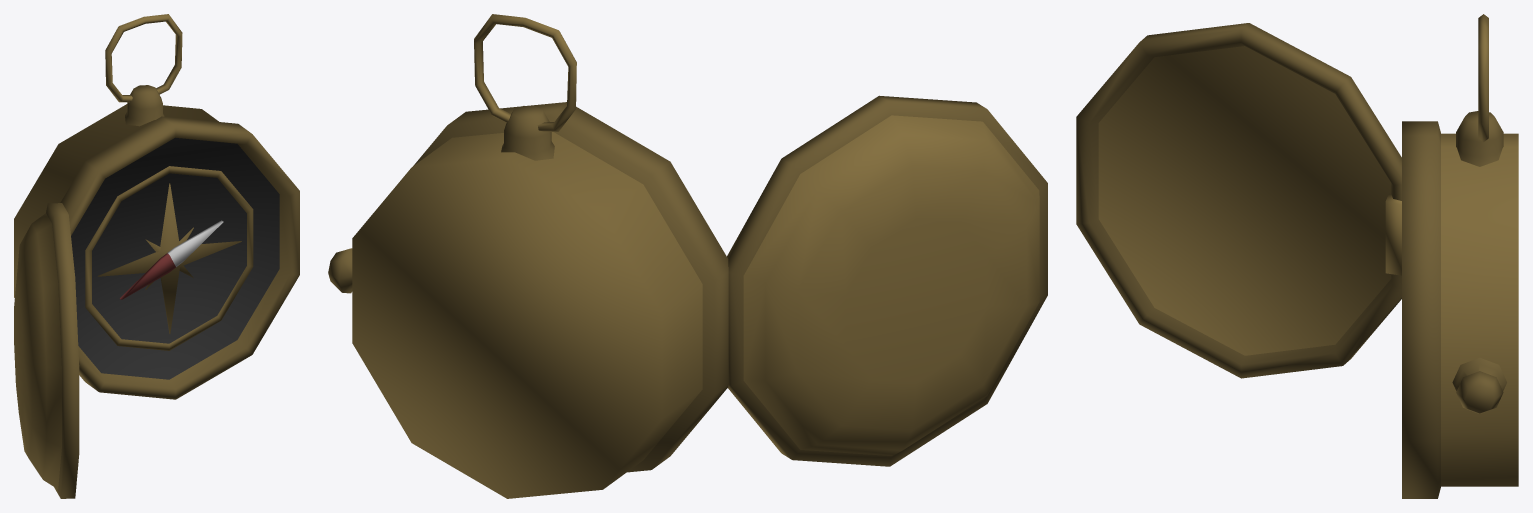
File: Compass_Opened.fbx
The picture shows the model from 3 angles, left to right: view 1: azimuth 30°, elevation 25°; view 2: azimuth 150°, elevation 25°; view 3: azimuth 270°, elevation 25°; orthographic projection. The views are drawn at different scales.
Parts seen in each view (by area): view 1: Compass_Opened; view 2: Compass_Opened; view 3: Compass_Opened.
Boxes of the visible parts, bbox=[...] form: Compass_Opened: bbox=[14, 14, 299, 498]; Compass_Opened: bbox=[328, 14, 1047, 498]; Compass_Opened: bbox=[1076, 14, 1518, 498].
Bounding box in the file's own units: 81.15 × 71.99 × 62.81.
